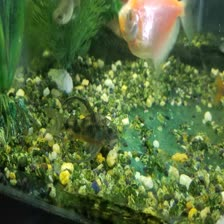Kiros: (39, 96, 129, 154)
Plano: (117, 0, 186, 78)
